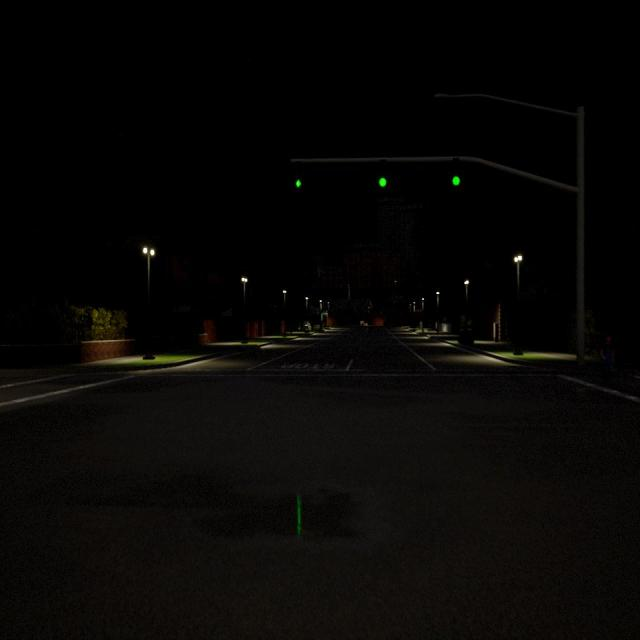Pedestrian: (603, 337, 612, 374)
traffic_light: (452, 158, 460, 185), (379, 160, 387, 186), (296, 162, 302, 187)
